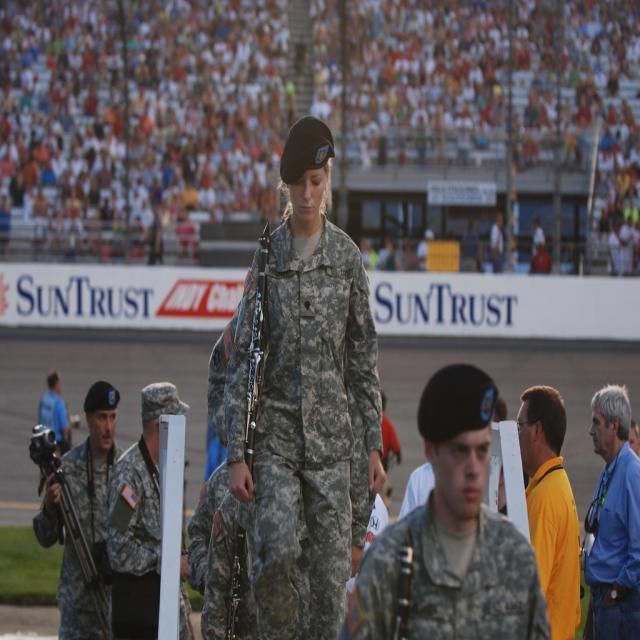clarinet: (222, 217, 272, 640), (388, 516, 413, 640)
